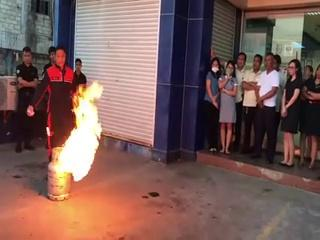Fire: (54, 76, 108, 182)
